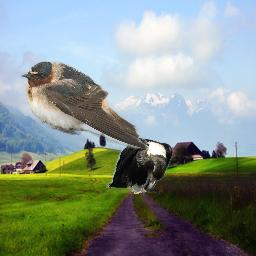Crow: (106, 136, 174, 196)
Swallow: (21, 61, 149, 149)
